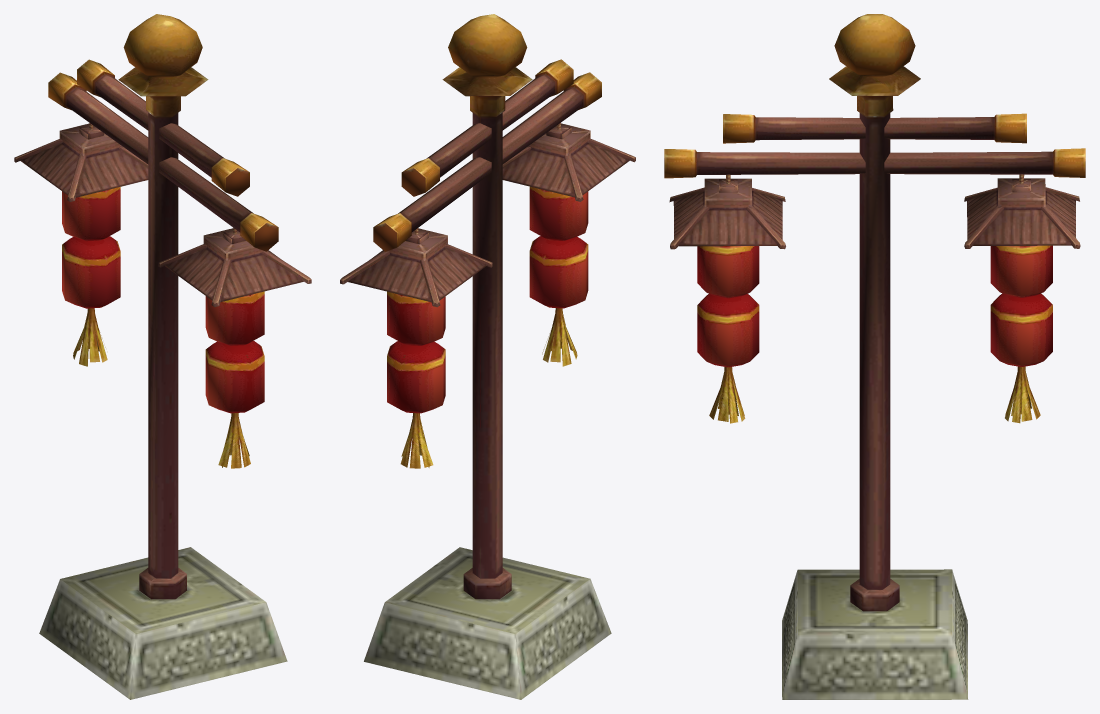
File: denglong_01.FBX
3 renders of one model, left to right at view 1: azimuth 30°, elevation 25°; view 2: azimuth 150°, elevation 25°; view 3: azimuth 270°, elevation 25°, orthographic. The views are drawn at different scales.
Visible parts, largest first — view 1: denglong_01; view 2: denglong_01; view 3: denglong_01.
Part boxes in pixels (bbox=[...]): denglong_01: bbox=[14, 14, 311, 699]; denglong_01: bbox=[340, 14, 635, 699]; denglong_01: bbox=[664, 14, 1085, 699].
Size of the model in its own units: 17.48 by 66.58 by 39.47.
